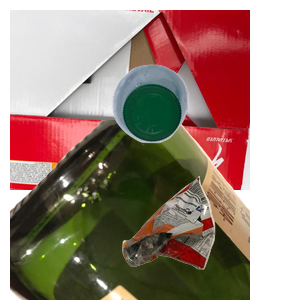cardboard: (10, 10, 250, 190)
glass: (10, 120, 250, 300)
plastic: (110, 62, 300, 198)
trash: (120, 174, 300, 300)
